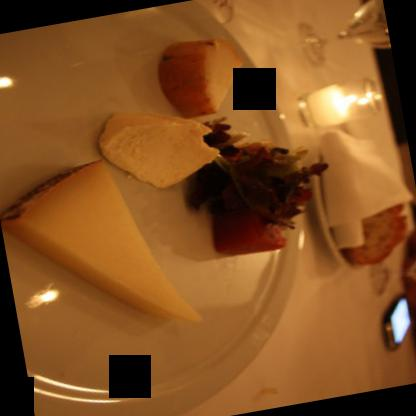parmesan cheese: (0, 145, 205, 359)
